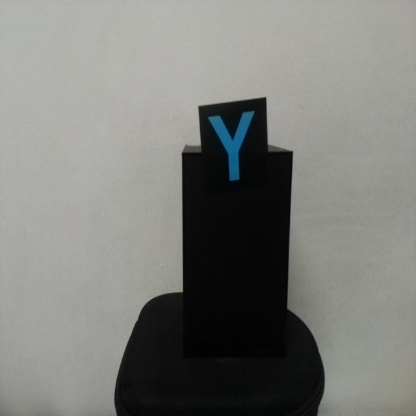id_14: (200, 105, 268, 194)
